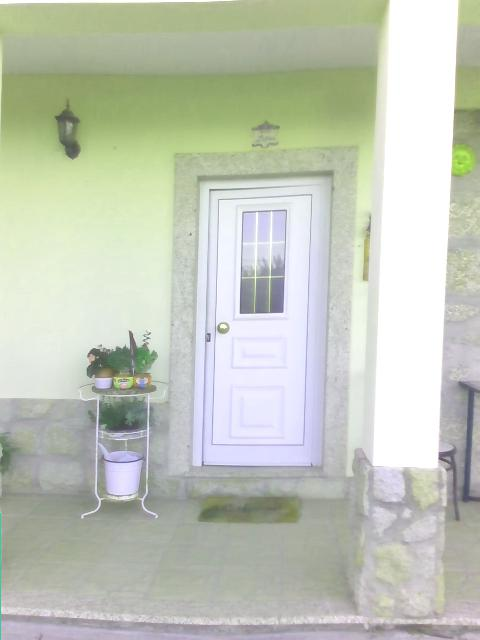closed_door: (190, 170, 331, 464)
